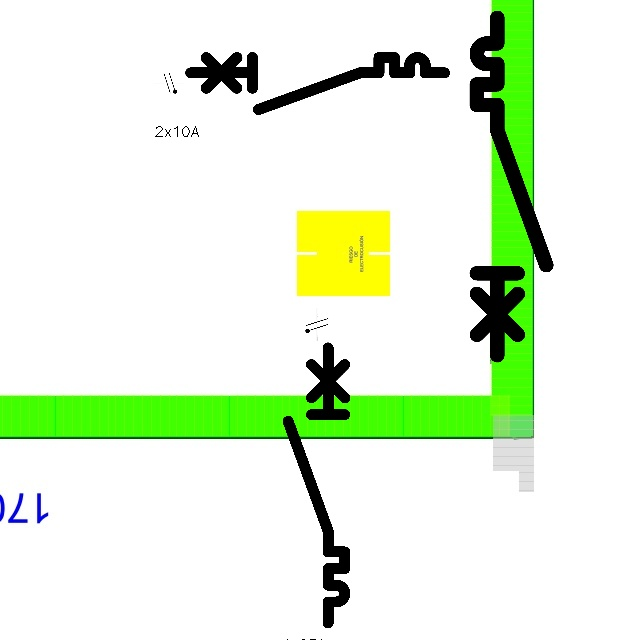interruptor_termomagnetico: (468, 9, 554, 363), (281, 340, 352, 629), (184, 51, 451, 116)
